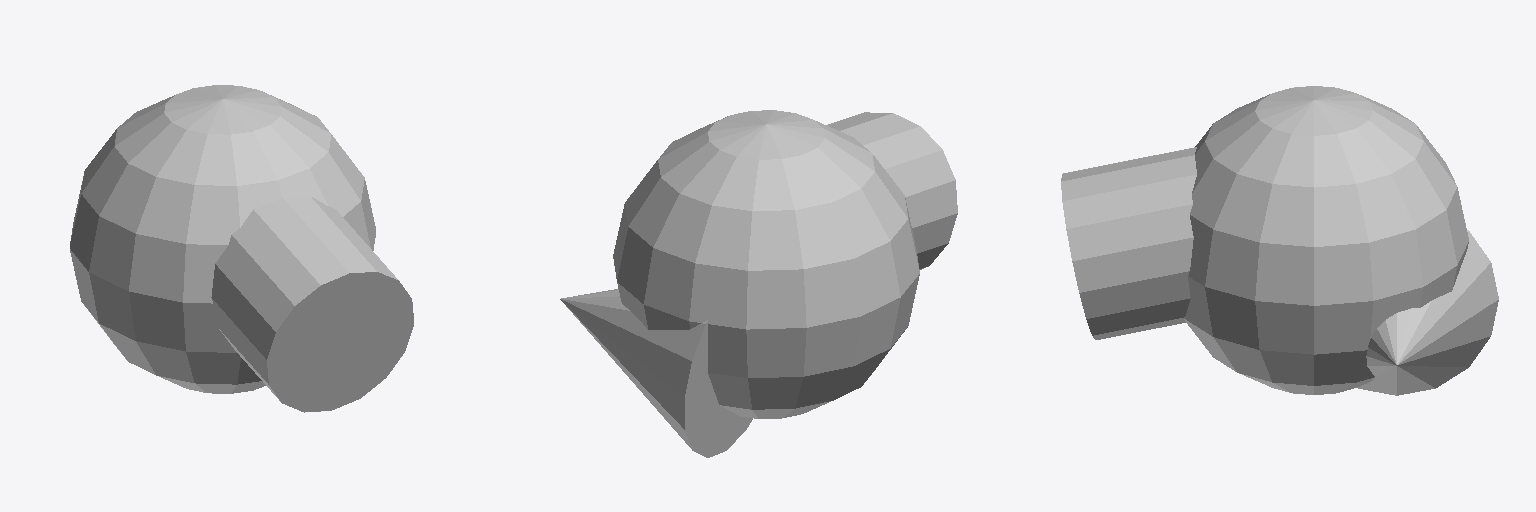
Rendered from head1.obj.
3 views of the same model, side by side, from view 1: azimuth 30°, elevation 25°; view 2: azimuth 150°, elevation 25°; view 3: azimuth 270°, elevation 25° (orthographic).
Size of the model in its own units: 0.8137 by 0.7682 by 1.03.